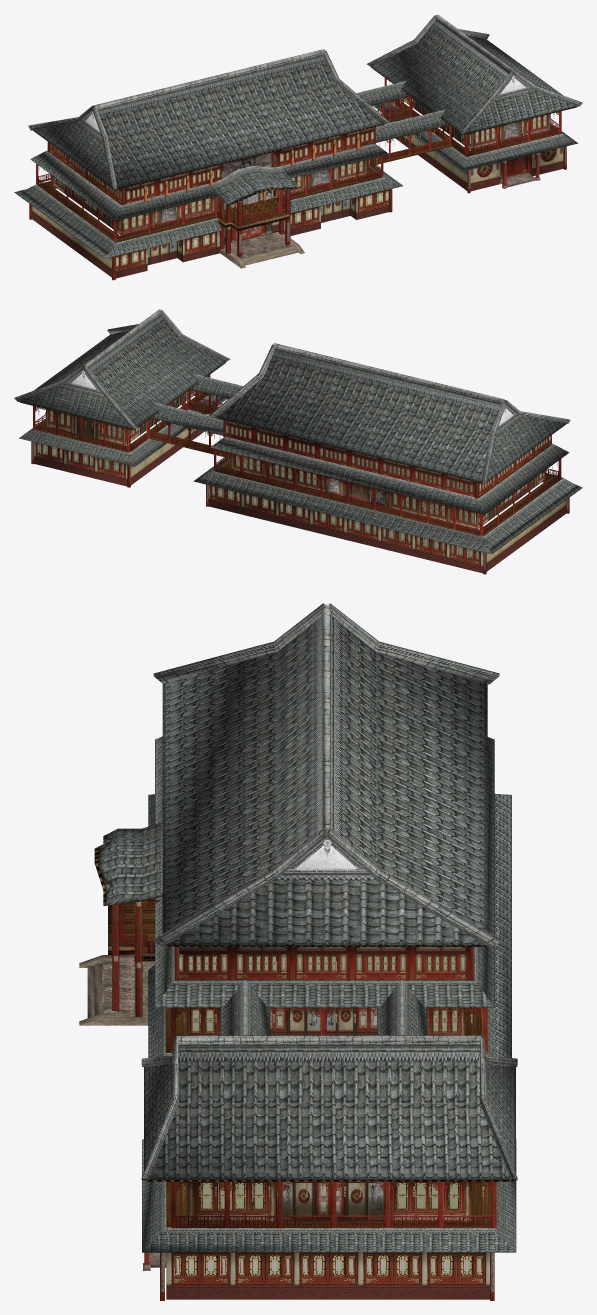
The model's file is cj_pub01.glb.
3 views of the same model, one above another, from view 1: azimuth 30°, elevation 25°; view 2: azimuth 150°, elevation 25°; view 3: azimuth 270°, elevation 25° (orthographic). The views are drawn at different scales.
Parts seen in each view (by area): view 1: CJ_pub01_roof, CJ_pub01_wall01, CJ_pub01_fence, CJ_pub01_picture, CJ_pub01_wall02, Cj_pub01_win_light, CJ_pub01_deco; view 2: CJ_pub01_roof, CJ_pub01_wall01, CJ_pub01_fence, Cj_pub01_win_light, CJ_pub01_wall02; view 3: CJ_pub01_roof, CJ_pub01_wall01, Cj_pub01_win_light, CJ_pub01_fence, CJ_pub01_wall02, CJ_pub01_picture.
Boxes of the visible parts, left/top/right/bottom form: CJ_pub01_roof: left=14, top=14, right=582, bottom=258; CJ_pub01_wall01: left=29, top=97, right=566, bottom=280; CJ_pub01_fence: left=36, top=78, right=561, bottom=241; CJ_pub01_picture: left=218, top=147, right=563, bottom=258; CJ_pub01_wall02: left=64, top=99, right=522, bottom=265; Cj_pub01_win_light: left=50, top=97, right=546, bottom=267; CJ_pub01_deco: left=143, top=131, right=359, bottom=208; CJ_pub01_roof: left=14, top=309, right=582, bottom=554; CJ_pub01_wall01: left=31, top=390, right=569, bottom=574; CJ_pub01_fence: left=33, top=374, right=561, bottom=536; Cj_pub01_win_light: left=37, top=390, right=550, bottom=560; CJ_pub01_wall02: left=74, top=392, right=536, bottom=521; CJ_pub01_roof: left=94, top=603, right=517, bottom=1252; CJ_pub01_wall01: left=79, top=901, right=494, bottom=1300; Cj_pub01_win_light: left=175, top=954, right=482, bottom=1275; CJ_pub01_fence: left=119, top=900, right=496, bottom=1227; CJ_pub01_wall02: left=270, top=1007, right=384, bottom=1221; CJ_pub01_picture: left=102, top=960, right=174, bottom=1267.
Size of the model in its own units: 81.22 by 22.51 by 32.38.
Materials: 7 (7 with a texture image).
